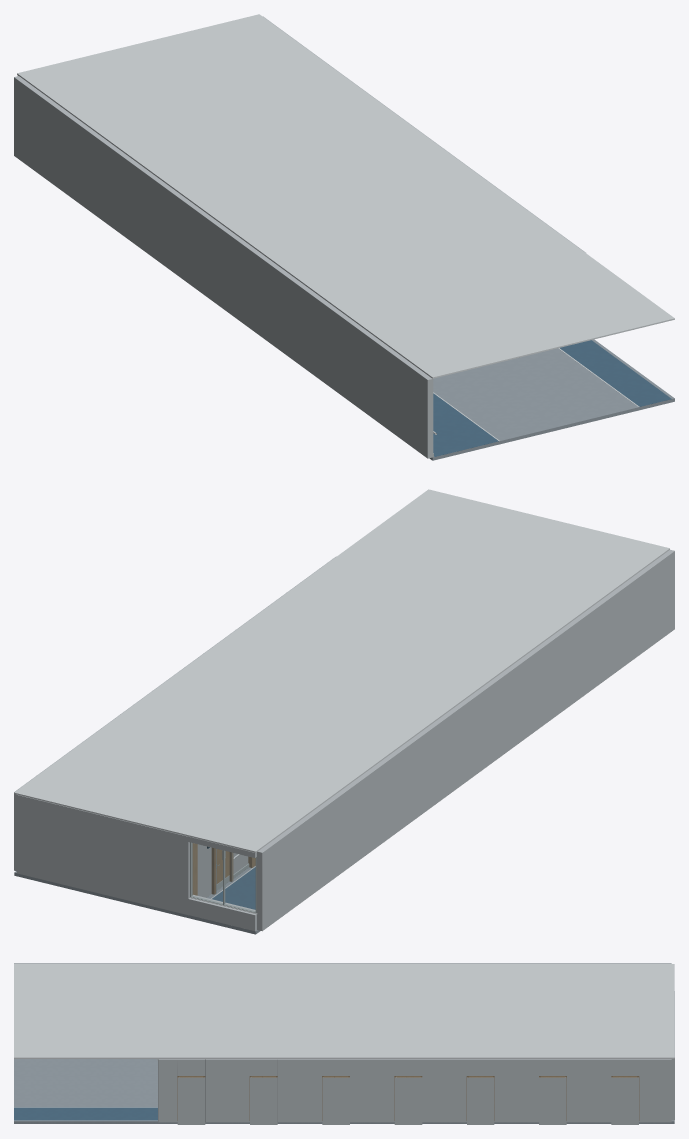
File: nurse-station-warm-v3.glb
3 views of the same model, one above another, from view 1: azimuth 30°, elevation 25°; view 2: azimuth 150°, elevation 25°; view 3: azimuth 270°, elevation 25° (orthographic). The views are drawn at different scales.
Visible parts, largest first — view 1: Architecture_Static; view 2: Architecture_Static; view 3: Architecture_Static.
Part boxes in pixels (x1,y1,x2,y2): Architecture_Static: (14,14,674,460); Architecture_Static: (14,489,674,934); Architecture_Static: (14,963,674,1124).
Size of the model in its own units: 10.74 by 3.33 by 30.17.
Materials: 34 (20 with a texture image).
